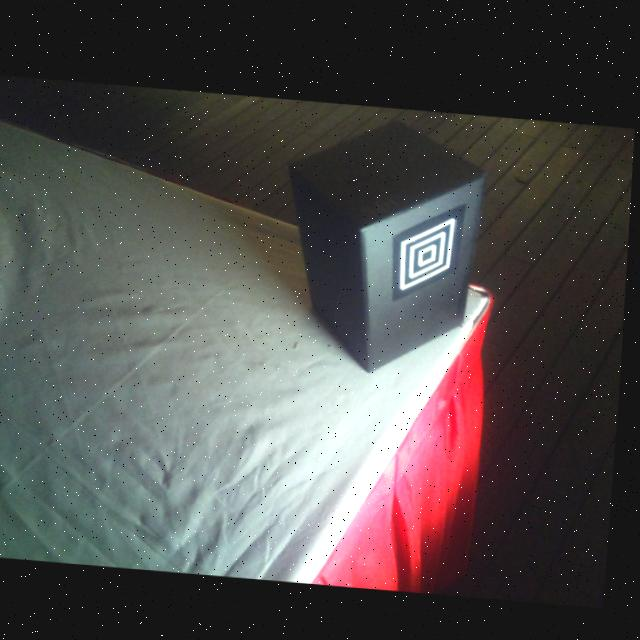BULLSEYE: (399, 211, 458, 287)
